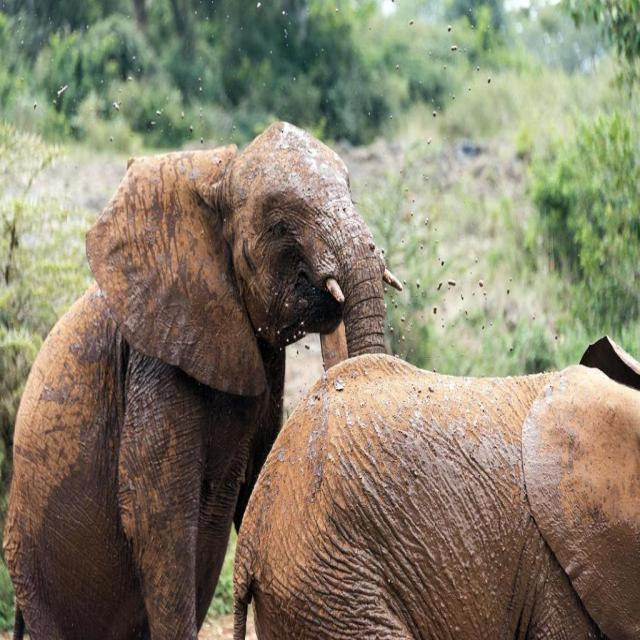elephant: (0, 121, 406, 638), (230, 329, 639, 639)
